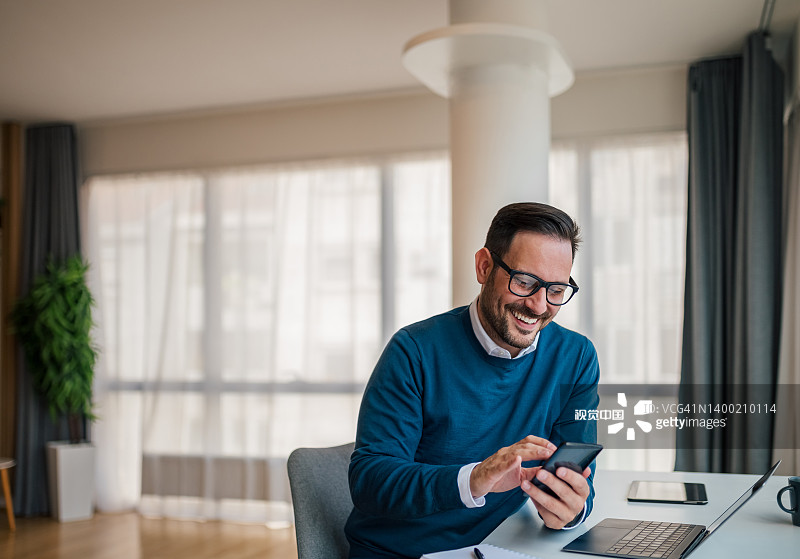reading: (459, 429, 620, 546)
